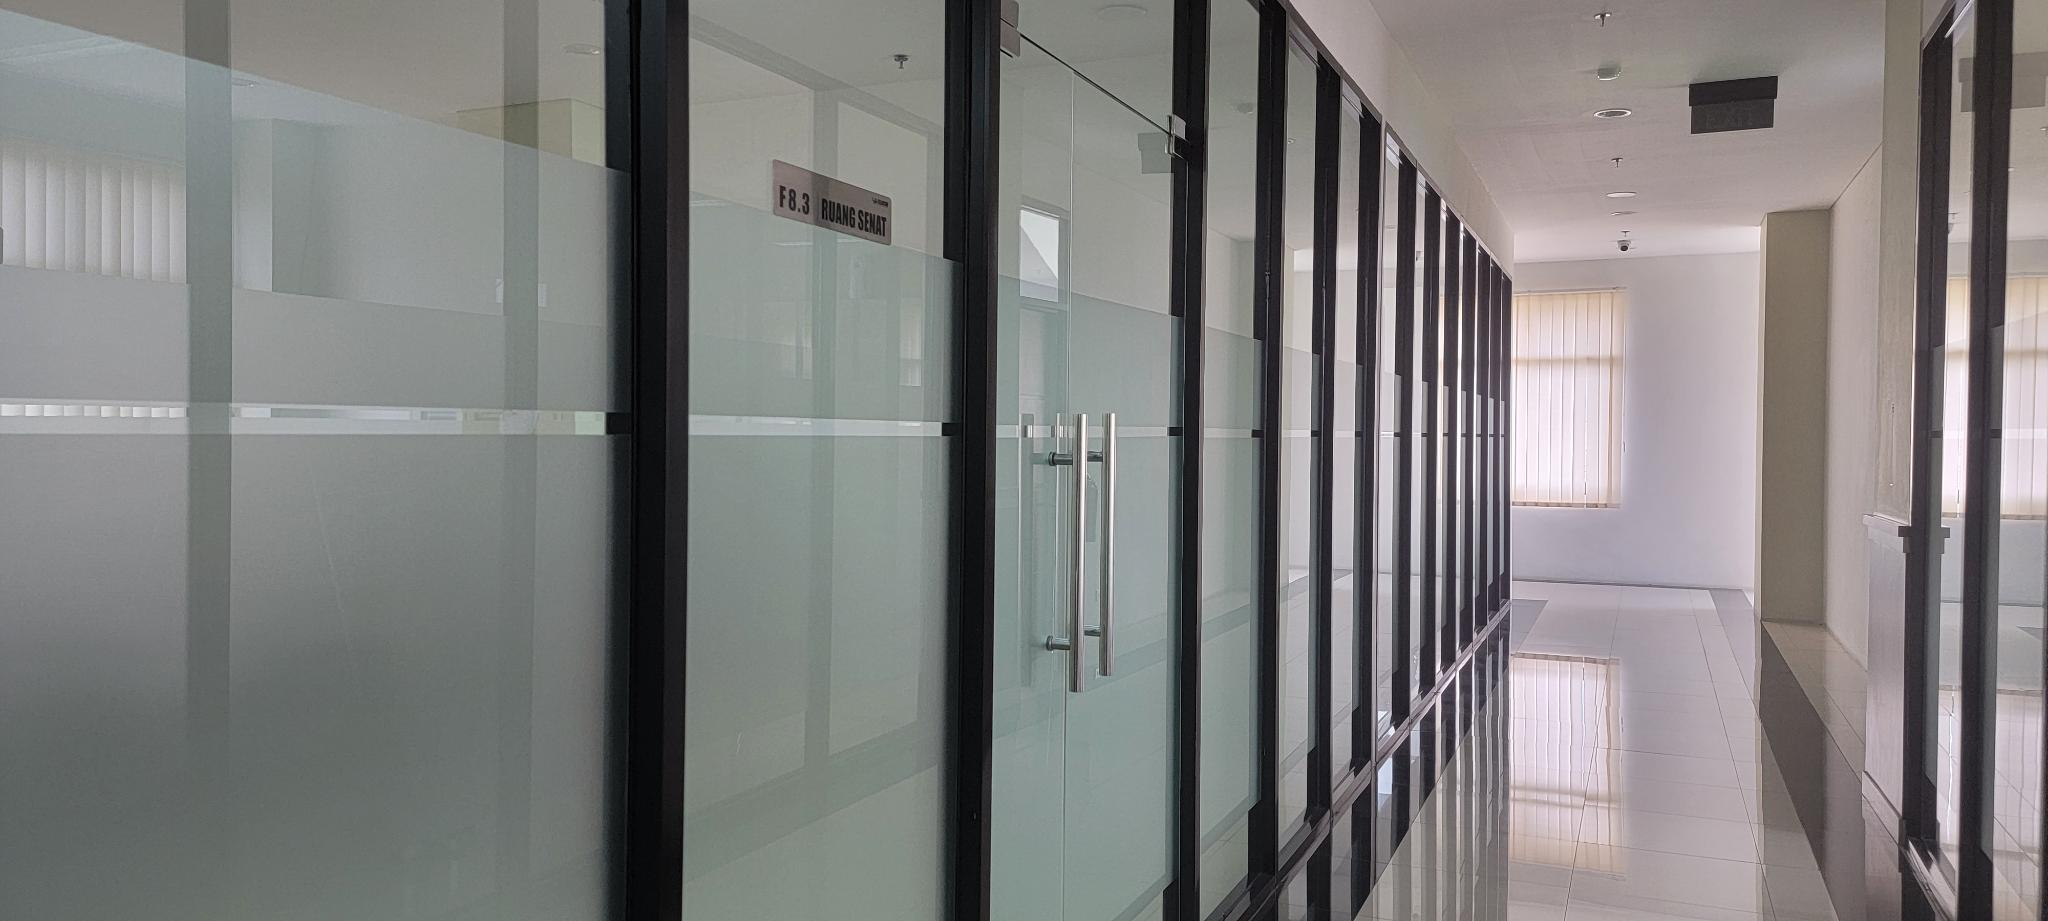plate: (772, 155, 893, 247)
